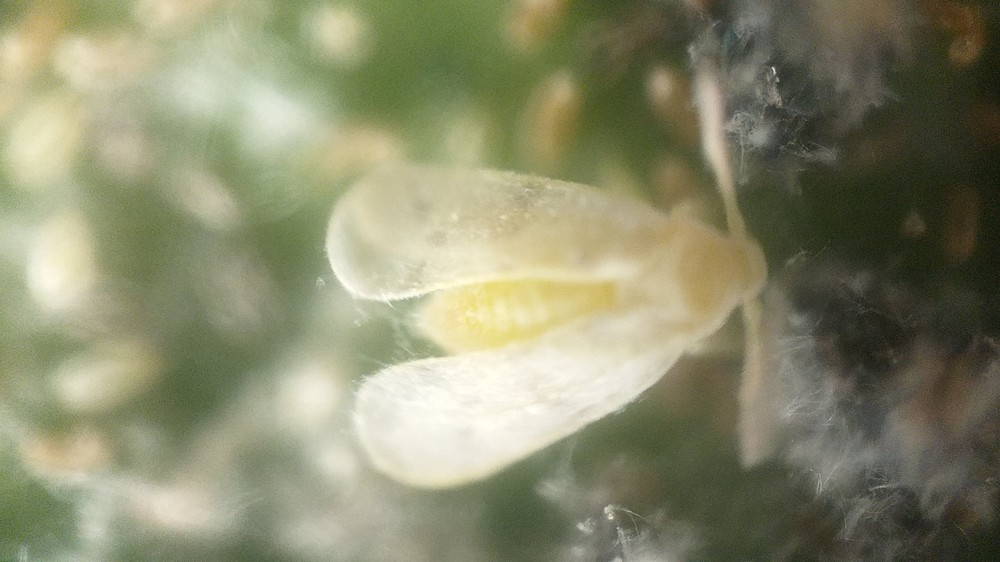Mosca Blanca: (316, 55, 797, 519)
